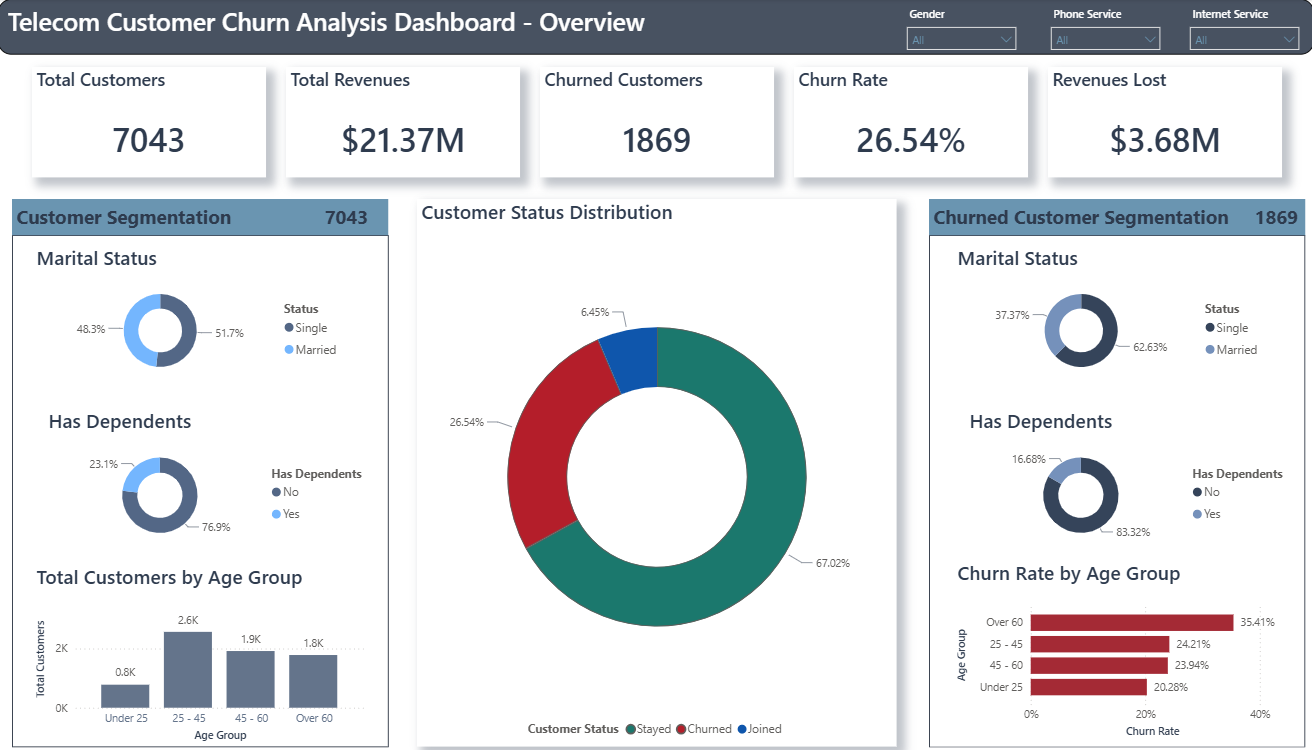

This screenshot's page, from the dashboard's own definition file:
{"tool":"powerbi","page":{"name":"Page 1","canvas":[1490,850],"ordinal":0},"visuals":[{"type":"card","title":"Total Customers","fields":{"Values":["Churn.Total Customers"]},"box":[38.1,77.2,265,125],"z":0},{"type":"card","title":"Total Revenues","fields":{"Values":["Churn.Total Revenues"]},"box":[325.9,77.2,265,125],"z":1000},{"type":"card","title":"Churned Customers","fields":{"Values":["Churn.Churned Customers"]},"box":[613.7,77.2,265,125],"z":2000},{"type":"card","title":"Churn Rate","fields":{"Values":["Churn.Churn Rate"]},"box":[901.5,77.2,265,125],"z":3000},{"type":"card","title":"Revenues Lost","fields":{"Values":["Churn.Revenue Lost"]},"box":[1189.4,77.2,265,125],"z":4000},{"type":"donutChart","title":"Customer Status Distribution","fields":{"Category":["Churn.Customer Status"],"Y":["Churn.Total Customers"]},"box":[474.7,226.2,543.4,619.5],"z":5000},{"type":"shape","box":[16.1,267.4,426.5,580.1],"z":6000},{"type":"shape","box":[1054,267.5,426.1,580.4],"z":7000},{"type":"donutChart","title":"Marital Status","fields":{"Category":["Churn.Married"],"Y":["Churn.Total Customers"]},"box":[38.1,278,359.3,154.6],"z":8000},{"type":"donutChart","title":"Has Dependents","fields":{"Category":["Churn.Has Dependents"],"Y":["Churn.Total Customers"]},"box":[52.1,463,381.4,158.6],"z":9000},{"type":"clusteredColumnChart","fields":{"Category":["Churn.Age Group"],"Y":["Churn.Total Customers"]},"box":[38.1,639.7,381.4,205.7],"z":10000},{"type":"textbox","box":[15.9,226.2,426.1,41.2],"z":11000},{"type":"textbox","box":[1054,226.2,426.1,41.2],"z":12000},{"type":"donutChart","title":"Marital Status","fields":{"Category":["Churn.Married"],"Y":["Churn.Churn Rate"]},"box":[1081,278.5,359.3,154.6],"z":13000},{"type":"donutChart","title":"Has Dependents","fields":{"Category":["Churn.Has Dependents"],"Y":["Churn.Churn Rate"]},"box":[1095,463.5,381.4,158.6],"z":14000},{"type":"clusteredBarChart","fields":{"Category":["Churn.Age Group"],"Y":["Churn.Churn Rate"]},"box":[1081,634.8,381.4,205.7],"z":15000},{"type":"textbox","title":"Telecom Customer Churn Analysis Dashboard - Overview","box":[0,0,1489.6,63.4],"z":16000},{"type":"slicer","fields":{"Values":["Churn.Gender"]},"box":[1018.6,5.9,144.3,53.4],"z":17000},{"type":"slicer","fields":{"Values":["Churn.Phone Service"]},"box":[1182.2,5.9,144.3,53.4],"z":18000},{"type":"slicer","fields":{"Values":["Churn.Internet Service"]},"box":[1339.3,5.9,144.3,53.4],"z":19000}]}

Visuals, with their boxes in screenshot pixels (x1, y1, x2, y2), scaled from the page's 1490x850 canvas onto the 1312x750 screenshot:
"Total Customers" card: left=34, top=68, right=267, bottom=178
"Total Revenues" card: left=287, top=68, right=520, bottom=178
"Churned Customers" card: left=540, top=68, right=774, bottom=178
"Churn Rate" card: left=794, top=68, right=1027, bottom=178
"Revenues Lost" card: left=1047, top=68, right=1281, bottom=178
"Customer Status Distribution" donutChart: left=418, top=200, right=896, bottom=746
shape: left=14, top=236, right=390, bottom=748
shape: left=928, top=236, right=1303, bottom=748
"Marital Status" donutChart: left=34, top=245, right=350, bottom=382
"Has Dependents" donutChart: left=46, top=409, right=382, bottom=548
clusteredColumnChart - Churn.Age Group x Churn.Total Customers: left=34, top=564, right=369, bottom=746
textbox: left=14, top=200, right=389, bottom=236
textbox: left=928, top=200, right=1303, bottom=236
"Marital Status" donutChart: left=952, top=246, right=1268, bottom=382
"Has Dependents" donutChart: left=964, top=409, right=1300, bottom=549
clusteredBarChart - Churn.Age Group x Churn.Churn Rate: left=952, top=560, right=1288, bottom=742
"Telecom Customer Churn Analysis Dashboard - Overview" textbox: left=0, top=0, right=1311, bottom=56
slicer - Churn.Gender: left=897, top=5, right=1024, bottom=52
slicer - Churn.Phone Service: left=1041, top=5, right=1168, bottom=52
slicer - Churn.Internet Service: left=1179, top=5, right=1306, bottom=52
